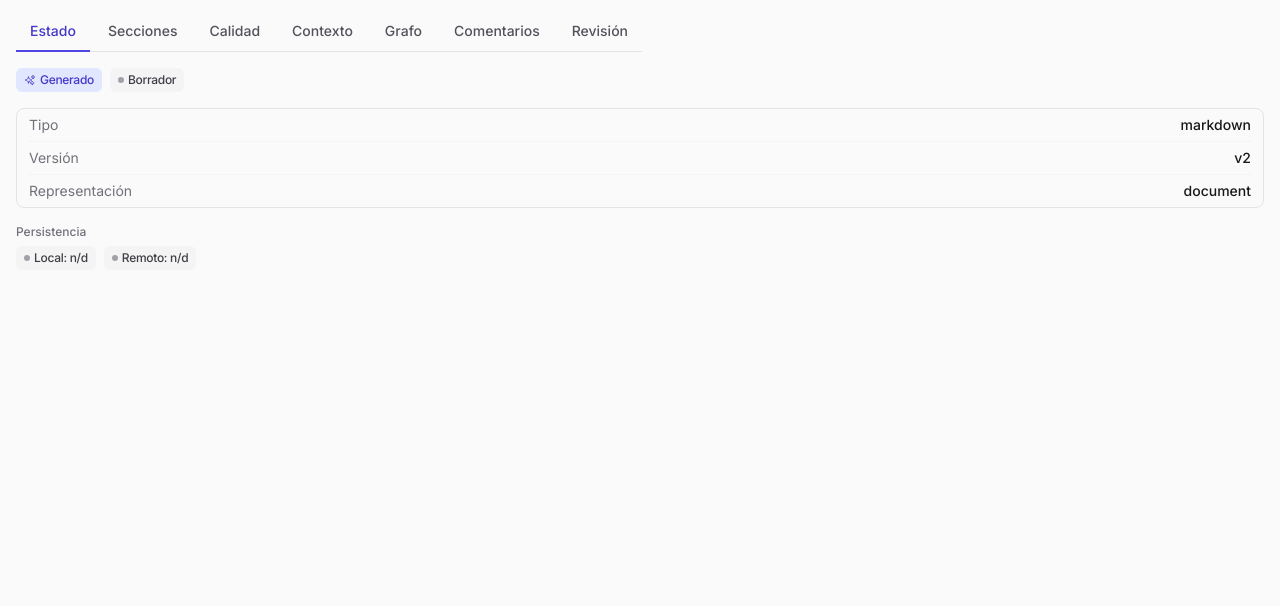
Test case: ArtifactInspectorPanel › drills into a section comment thread from the outline
This screenshot has width=1280, height=606.
Click the tab "Secciones" at (143, 32), box top-left (94, 12), bottom-right (192, 52)
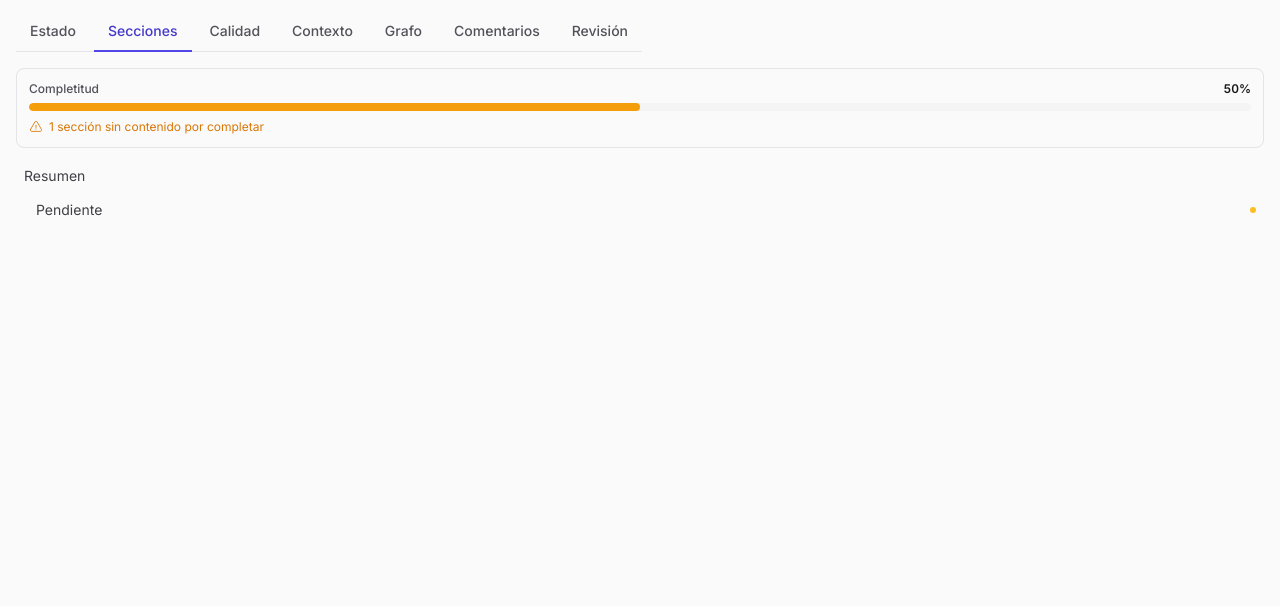
// Click a heading from the document outline.
Click the button "Resumen" at (55, 176), box top-left (16, 160), bottom-right (1264, 192)
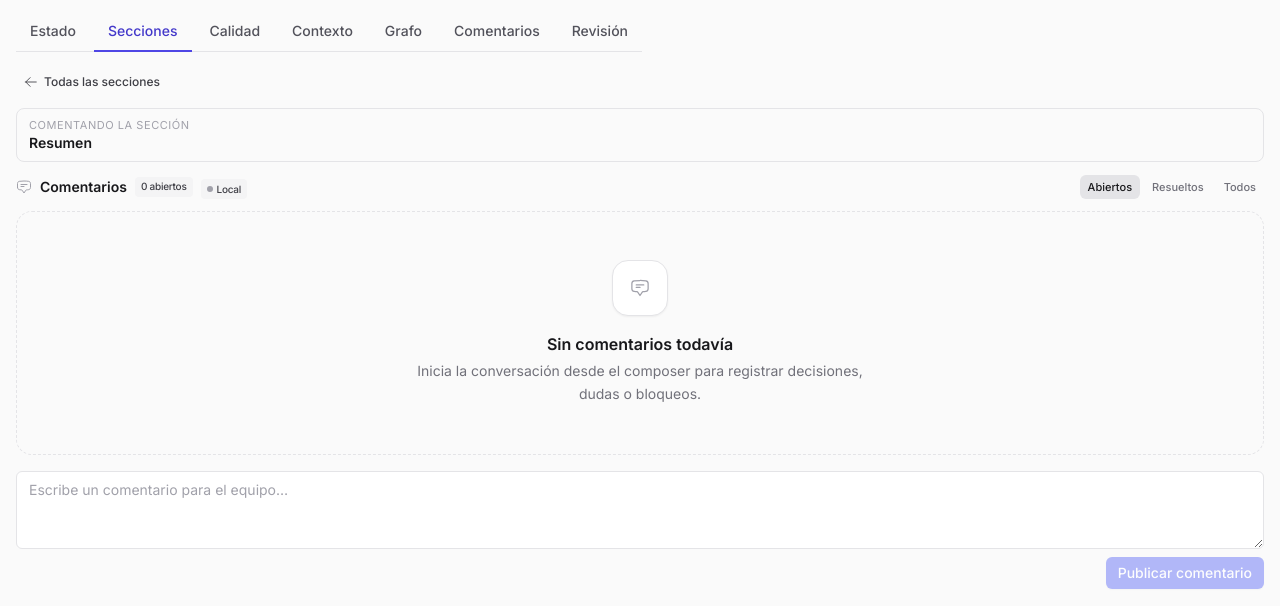
Check: the text "Comentando la sección" is shown, box top-left (29, 118), bottom-right (190, 132)
Check: the button "Todas las secciones" is shown, box top-left (16, 68), bottom-right (168, 96)
// Posting here anchors the comment to the section.
Type "Falta detalle" into the text box named "Nuevo comentario" at (640, 510), box top-left (16, 470), bottom-right (1264, 548)
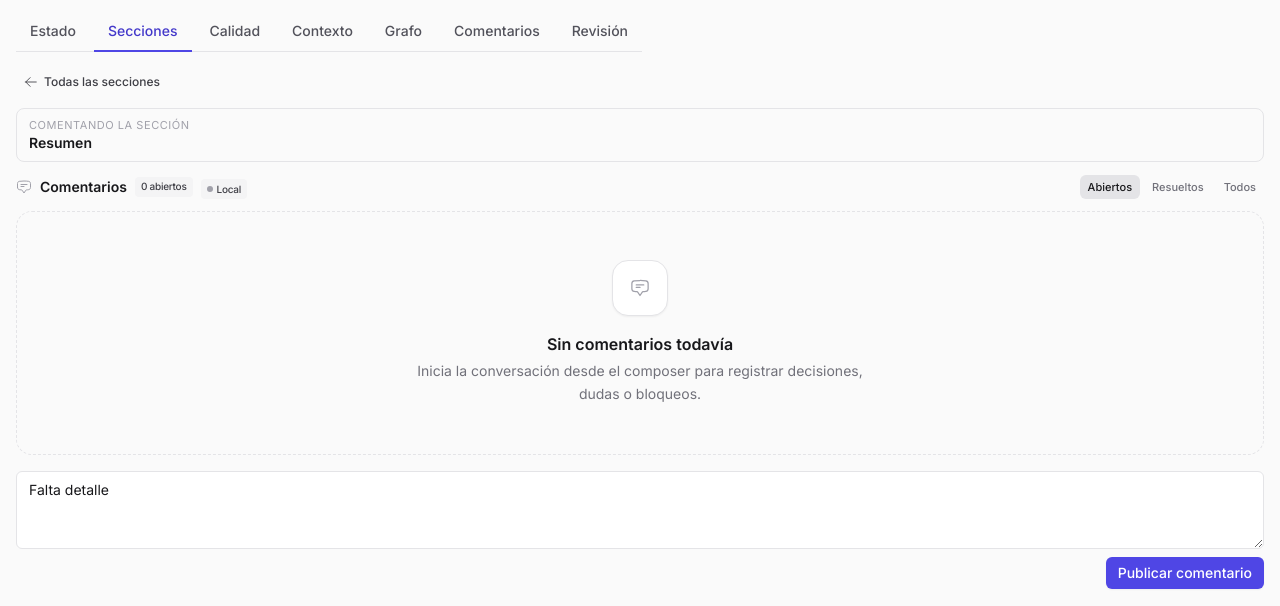
Click the button "Publicar comentario" at (1185, 572), box top-left (1106, 556), bottom-right (1264, 588)
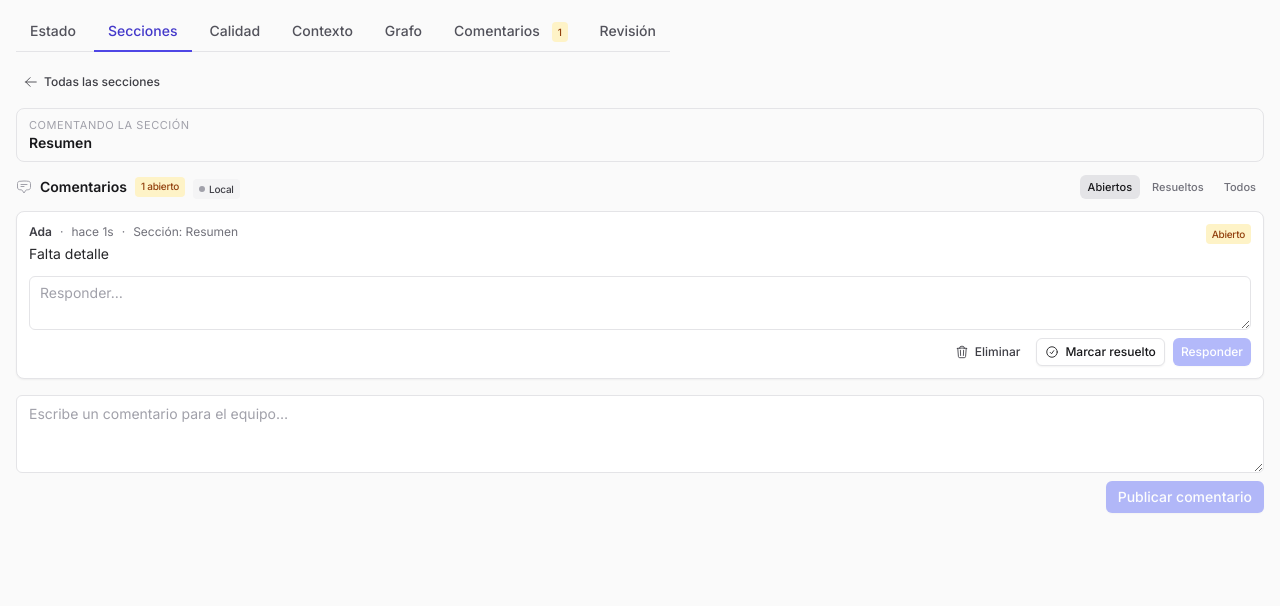
Check: the text "Falta detalle" is shown, box top-left (29, 245), bottom-right (109, 262)
